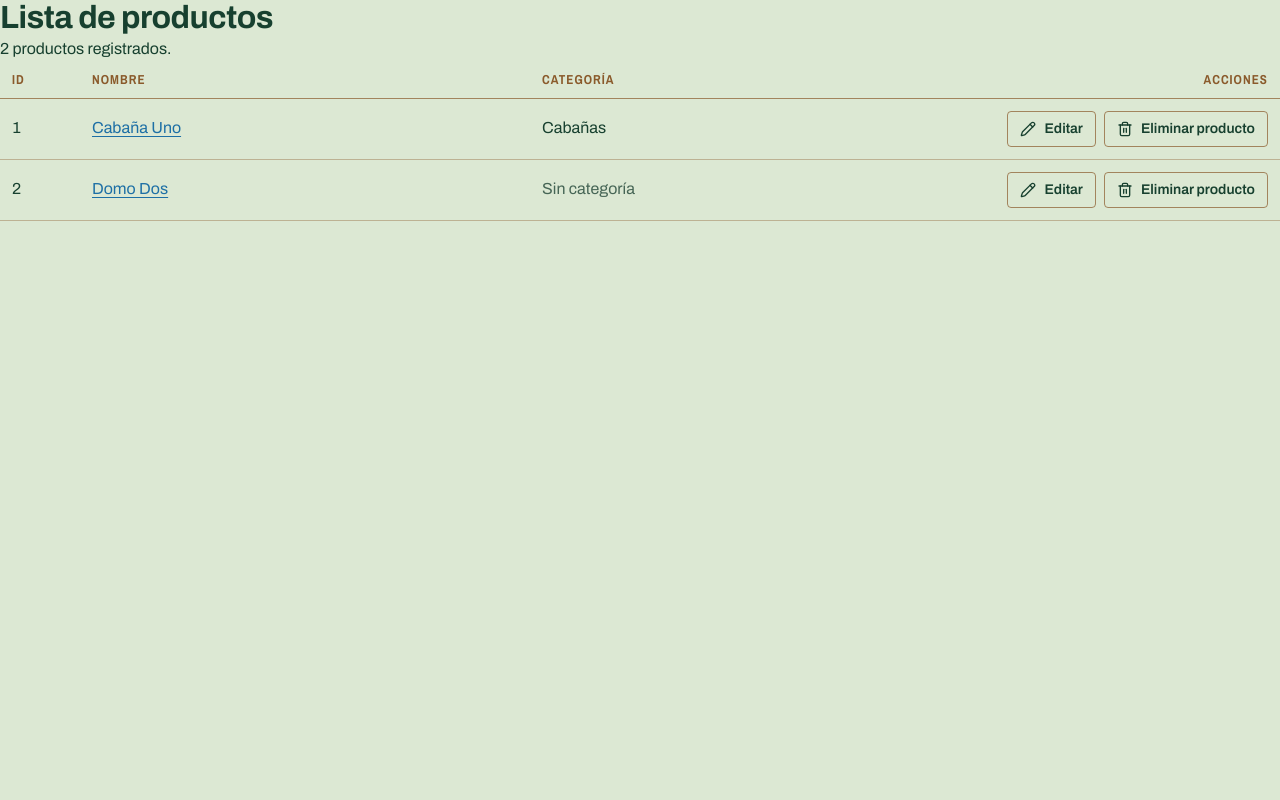
Test: Admin panel (#9, #10, #11) › lists products and deletes one only after confirming
The image size is (1280, 800).
Expected: the column headings read "Id", "Nombre", "Categoría", "Acciones", in this order, [0, 62, 80, 98]; [80, 62, 530, 98]; [530, 62, 995, 98]; [996, 62, 1279, 98]
Click the button with aria-label "Eliminar producto Cabaña Uno": (1186, 129) [1104, 111, 1268, 147]
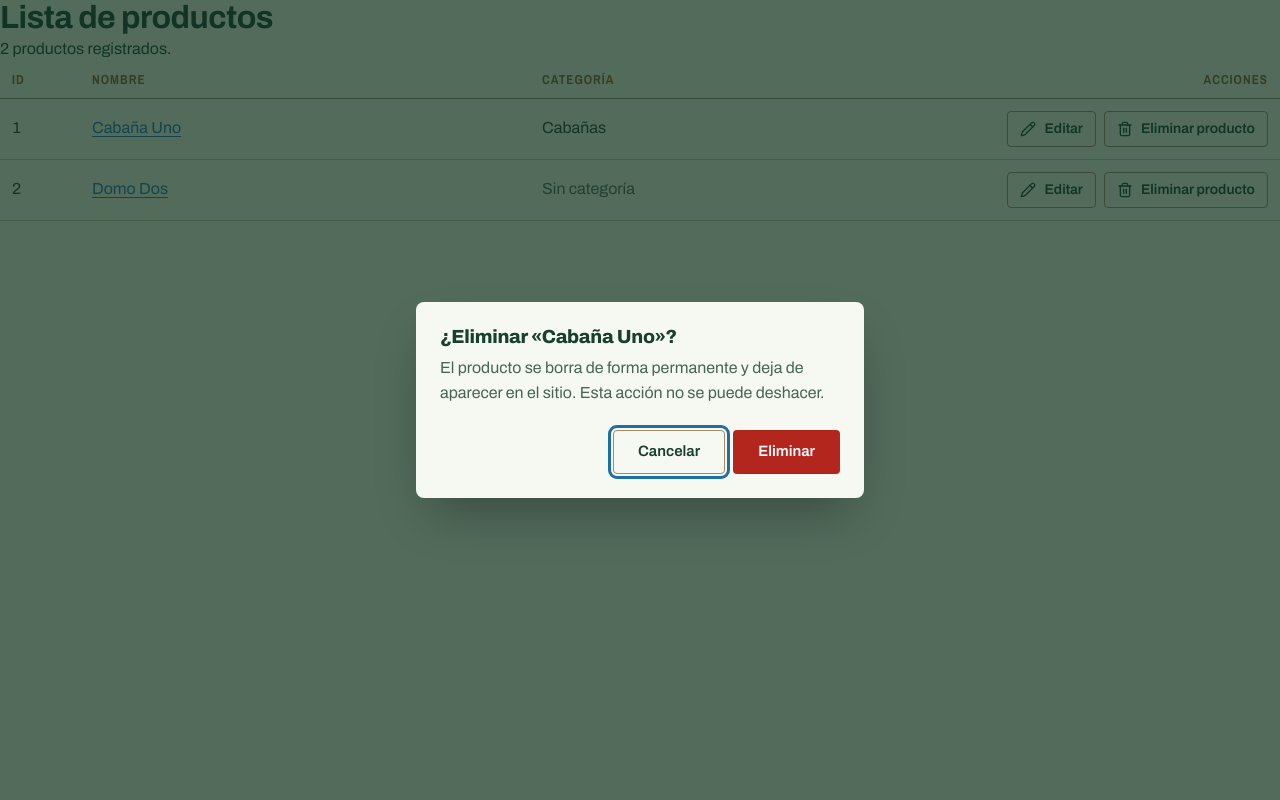
Click the button "Cancelar": (669, 452) [613, 430, 725, 474]
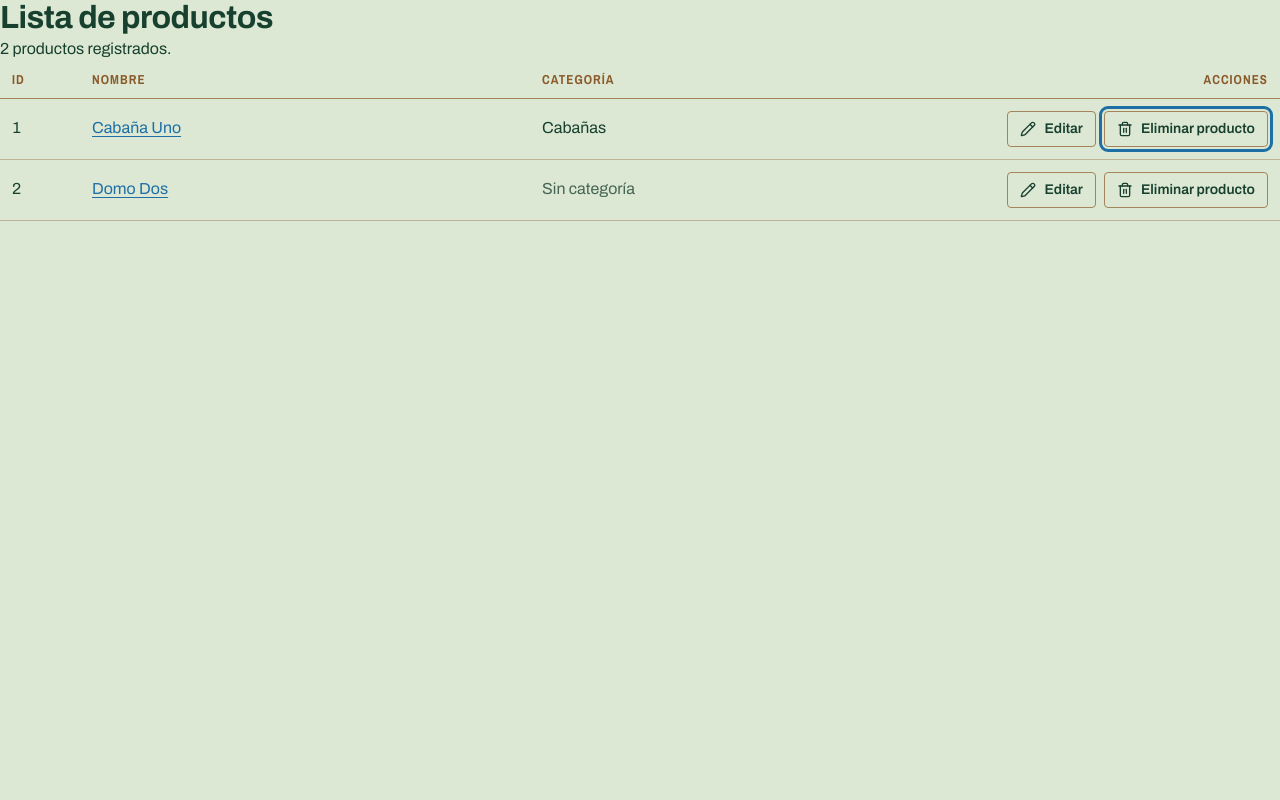
Expected: the link "Cabaña Uno" is shown, [92, 119, 181, 136]
Click the button with aria-label "Eliminar producto Cabaña Uno": (1186, 129) [1104, 111, 1268, 147]
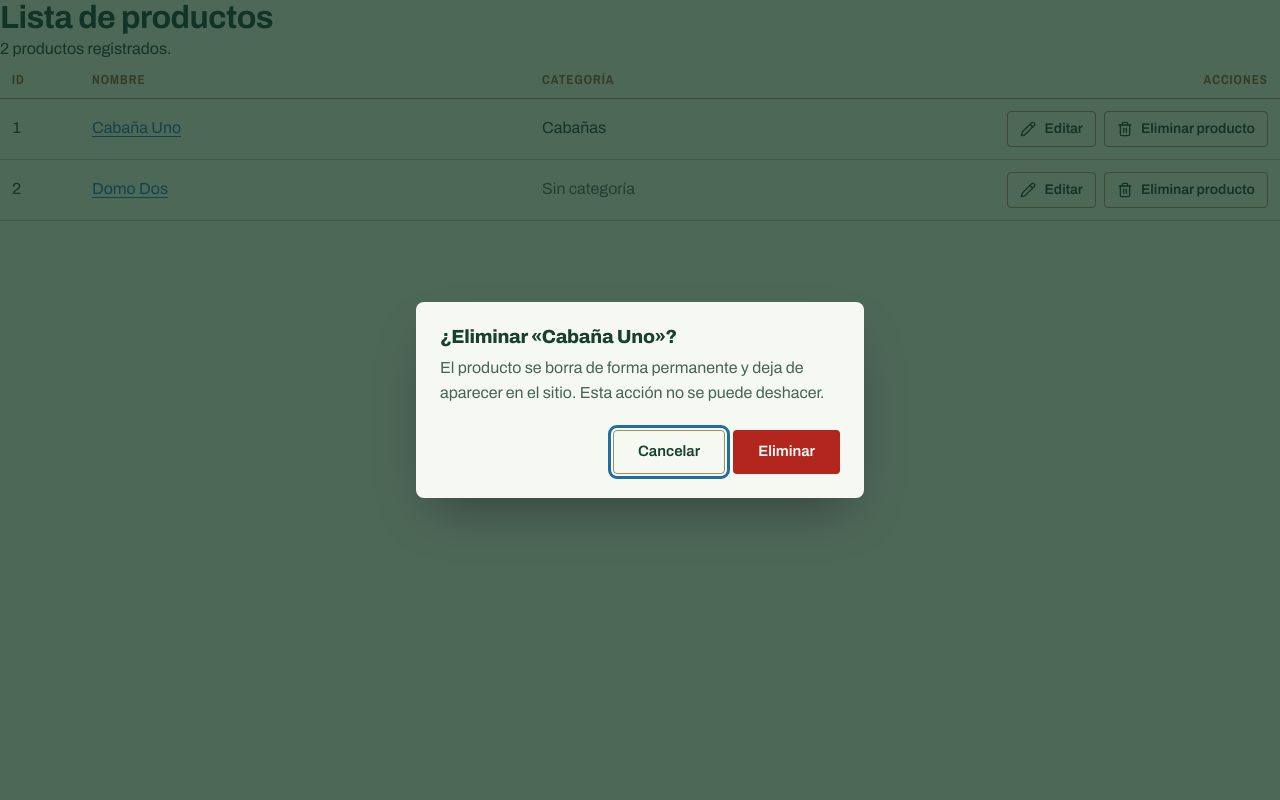
Click the button "Eliminar": (787, 452) [733, 430, 840, 474]
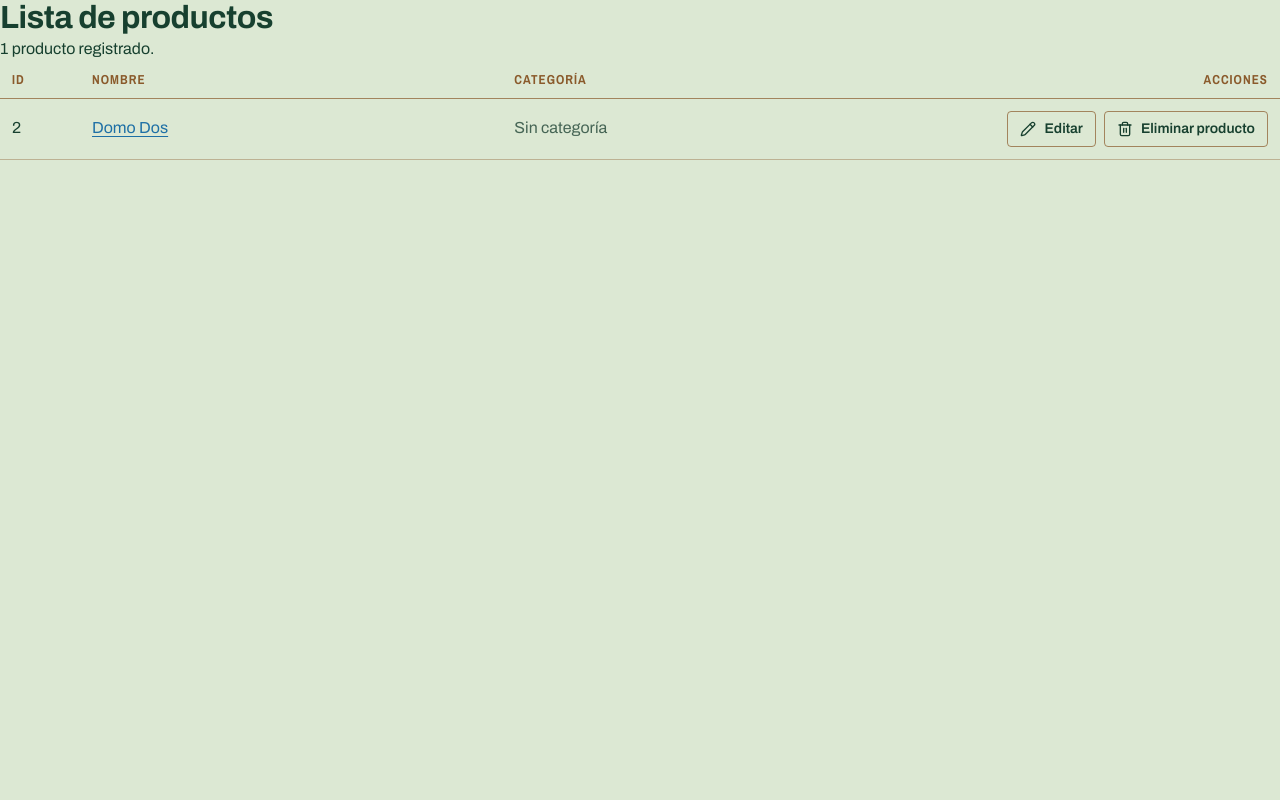
Expected: the link "Domo Dos" is shown, [92, 119, 168, 136]
Expected: the link "Cabaña Uno" is gone
